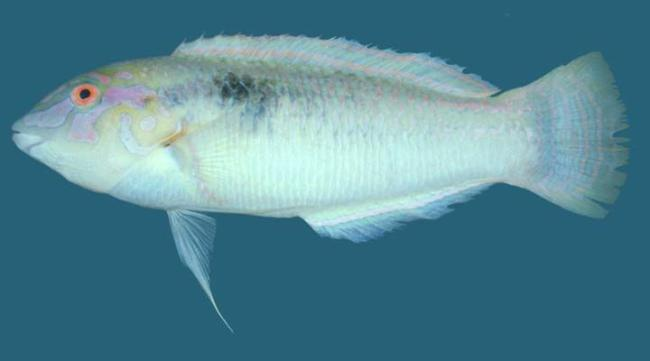fish: (11, 31, 632, 335)
